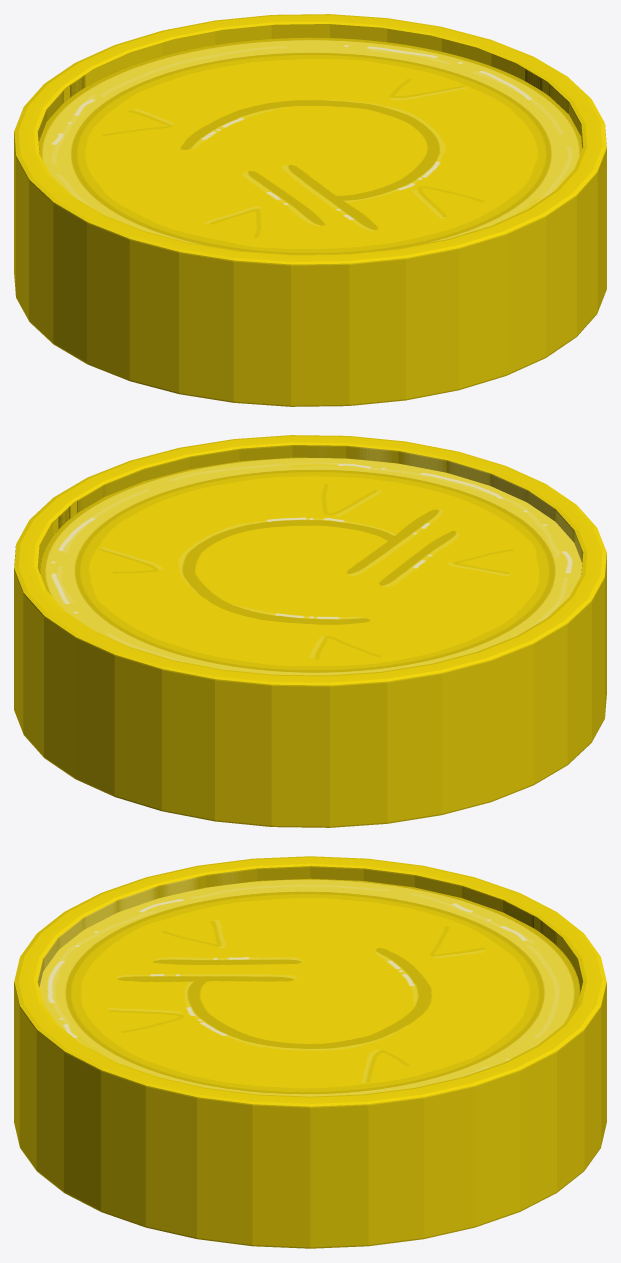
The model's file is Coin.fbx.
3 renders of one model, top to bottom at view 1: azimuth 30°, elevation 25°; view 2: azimuth 150°, elevation 25°; view 3: azimuth 270°, elevation 25°, orthographic.
Visible parts, largest first — view 1: Cylinder; view 2: Cylinder; view 3: Cylinder.
Part boxes in pixels (<box>): Cylinder: <box>14,14,606,406</box>; Cylinder: <box>14,435,606,827</box>; Cylinder: <box>14,856,606,1248</box>.
Size of the model in its own units: 200 by 53.59 by 200.
1 material, 1 textured.
